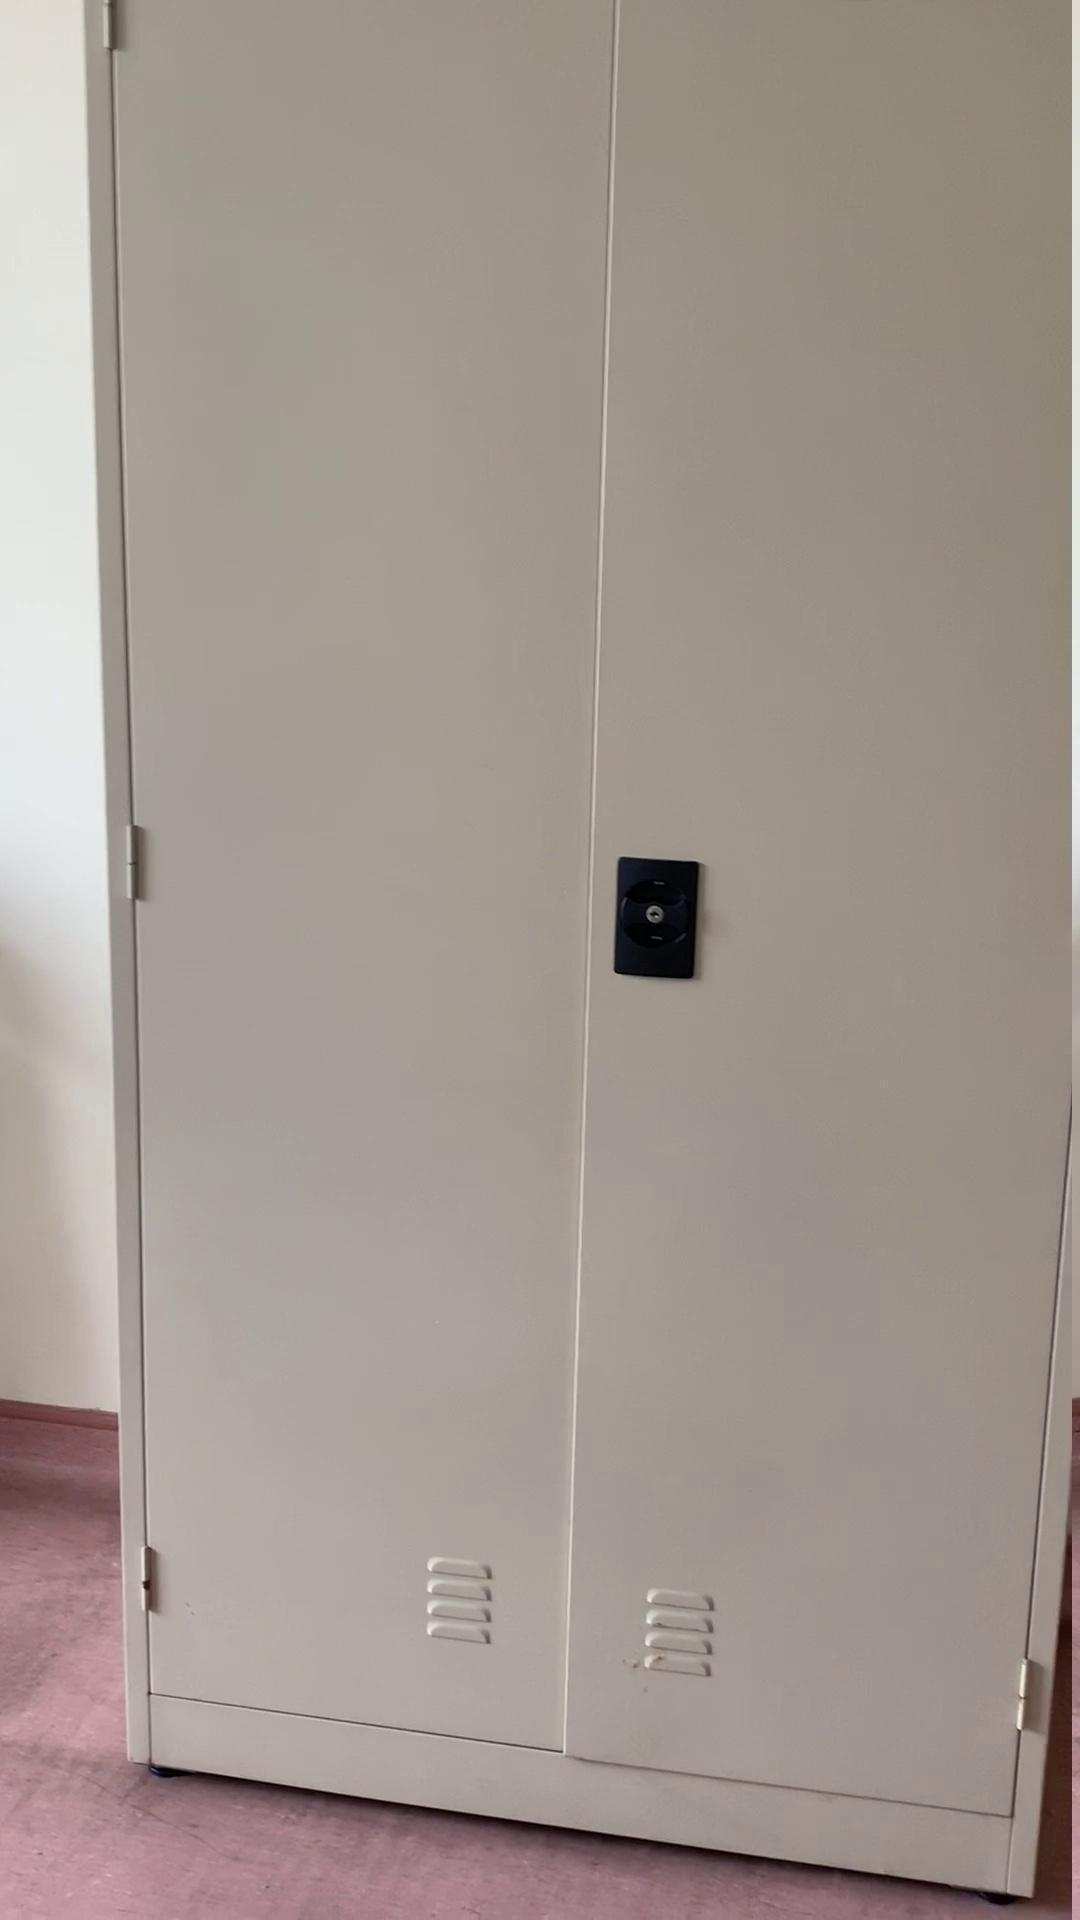Armario: (80, 12, 1065, 1874)
